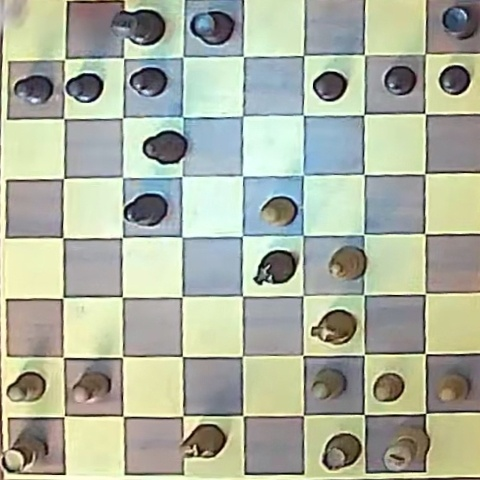black-bishop: (142, 130, 186, 165), (124, 193, 167, 227)
black-king: (111, 8, 164, 46)
black-knight: (254, 250, 296, 285)
black-pawn: (14, 75, 54, 105), (129, 67, 167, 97), (66, 72, 104, 102), (312, 71, 346, 101), (384, 65, 417, 95), (438, 65, 470, 95)
black-rook: (189, 10, 234, 46), (441, 4, 477, 39)
white-bishop: (328, 246, 366, 281)
white-king: (383, 426, 429, 472)
white-knight: (311, 310, 355, 346), (180, 424, 225, 459)
white-pawn: (6, 372, 46, 403), (72, 372, 110, 404), (260, 197, 296, 227), (311, 369, 344, 400), (373, 373, 405, 402), (437, 374, 468, 403)
white-rook: (2, 429, 47, 473), (322, 434, 362, 471)
